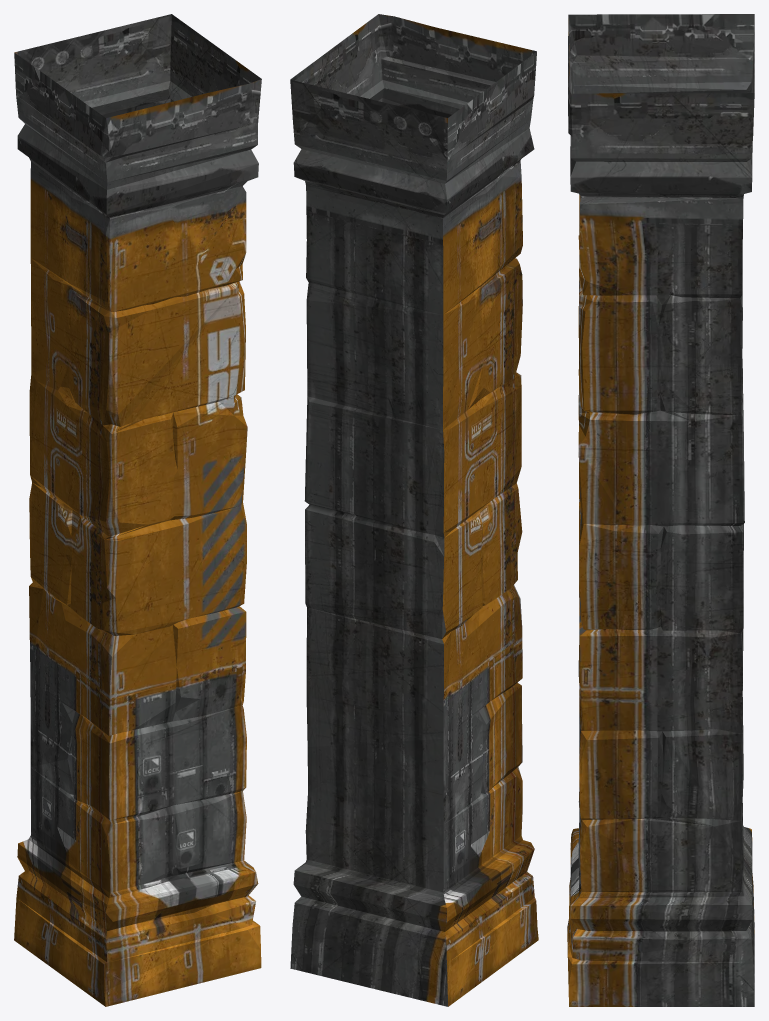
Rendered from shg_Column_001_REF.glb.
3 renders of one model, left to right at view 1: azimuth 30°, elevation 25°; view 2: azimuth 150°, elevation 25°; view 3: azimuth 270°, elevation 25°, orthographic. The views are drawn at different scales.
Visible parts, largest first — view 1: shg Column 001 REF.006; view 2: shg Column 001 REF.006; view 3: shg Column 001 REF.006.
Part boxes in pixels (x1=…): shg Column 001 REF.006: x1=14, y1=14, x2=261, y2=1006; shg Column 001 REF.006: x1=290, y1=14, x2=538, y2=1006; shg Column 001 REF.006: x1=567, y1=14, x2=754, y2=1006.
Bounding box in the file's own units: 0.8833 × 4.72 × 0.8787.
1 material, 1 textured.
